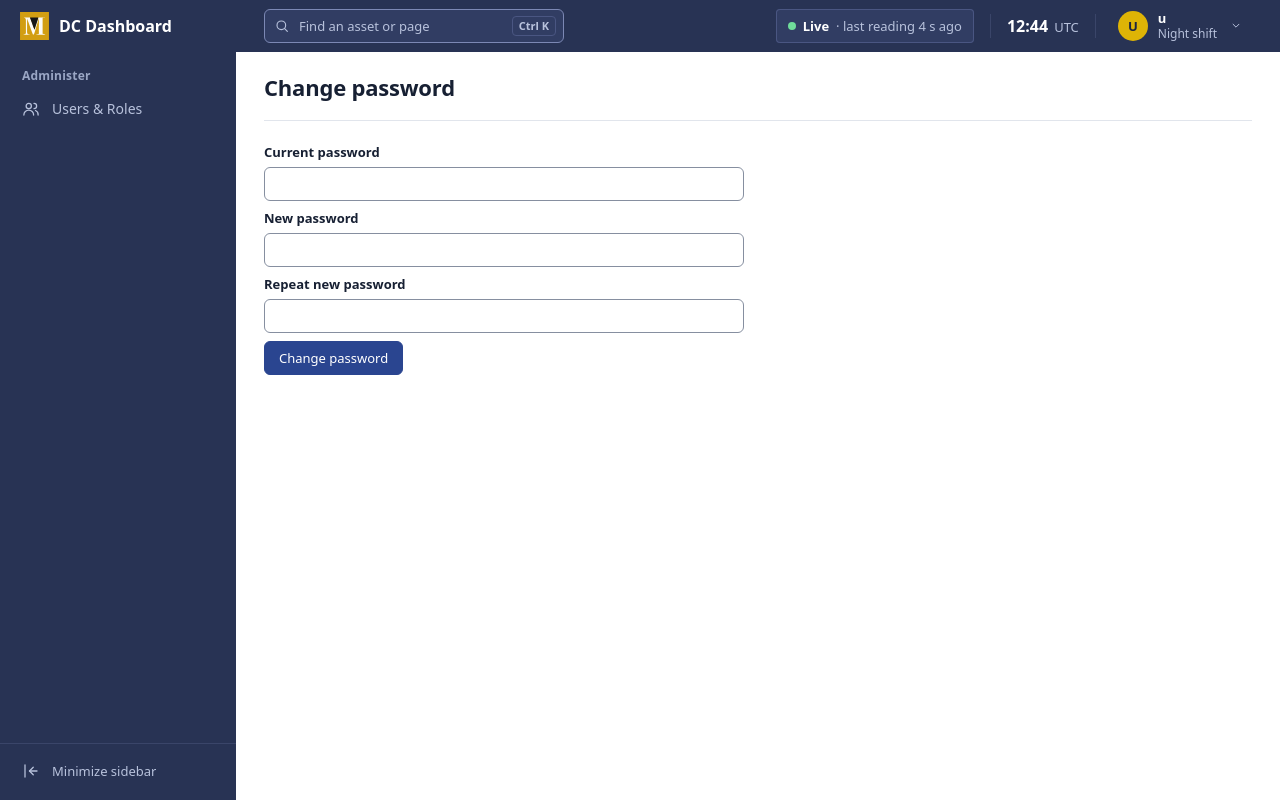
the quick find lists the pages the role may open › finds Users & Roles for users.view and not Settings
This screenshot has width=1280, height=800.
In the dropdown: point(414, 26) [264, 9, 564, 43], type "Users"
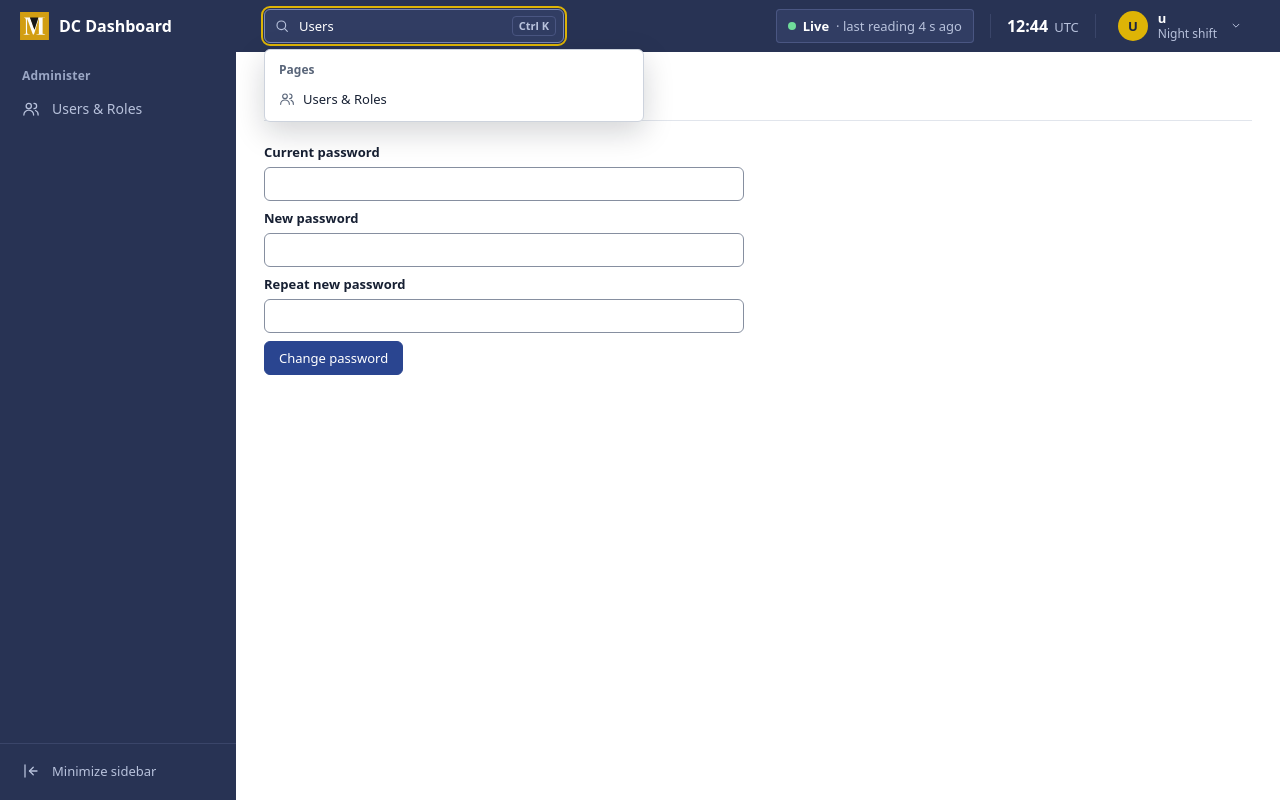
Expected: the option "Users & Roles" is shown, [279, 90, 387, 108]
Replace the text in the dropdown with "Settings": point(414, 26) [264, 9, 564, 43]
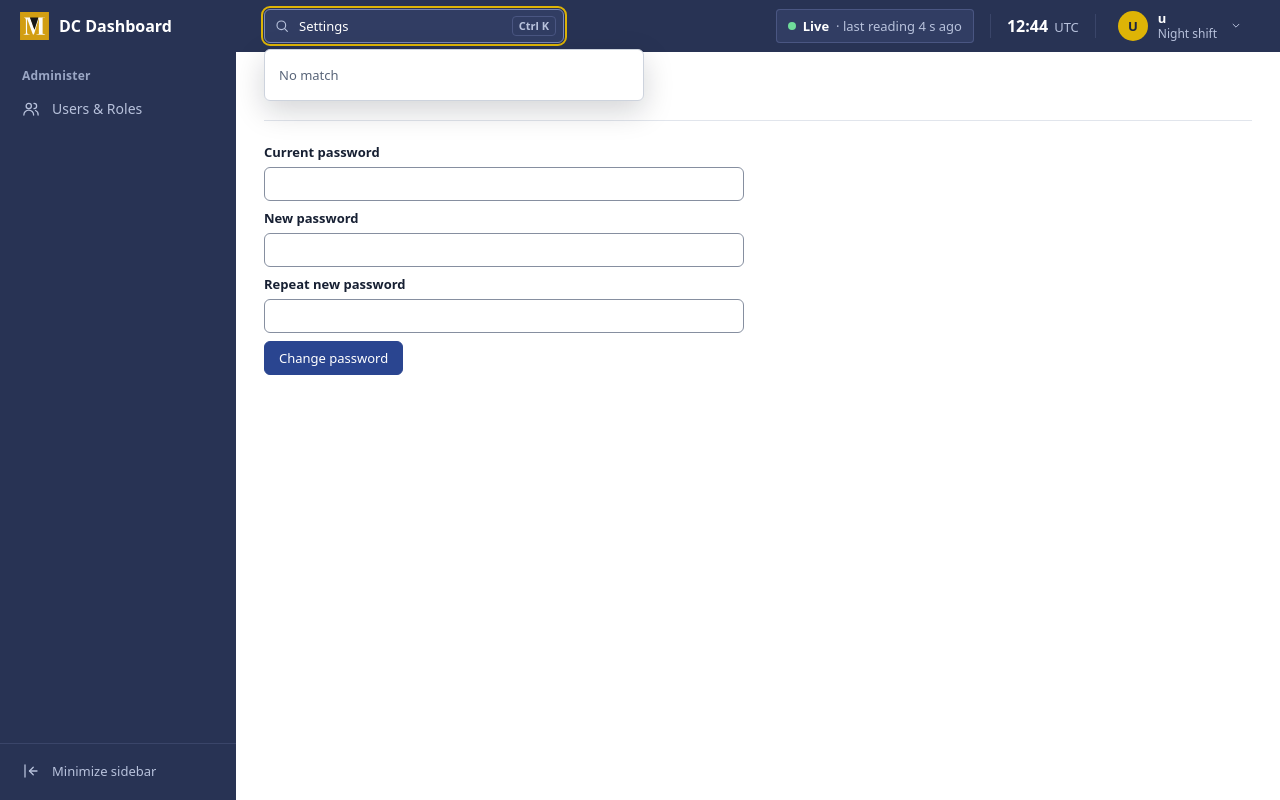
Expected: the text "No match" is shown, [279, 66, 338, 84]
